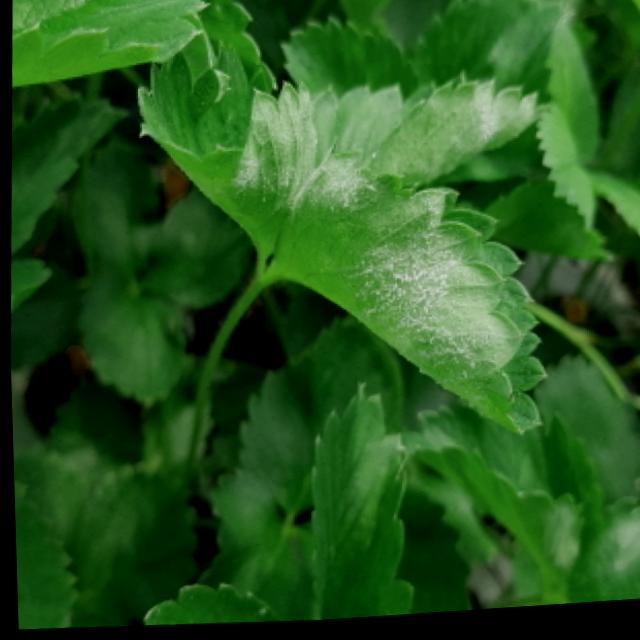Powdery Mildew Leaf: (259, 147, 542, 440), (277, 18, 541, 192), (135, 17, 316, 270)
